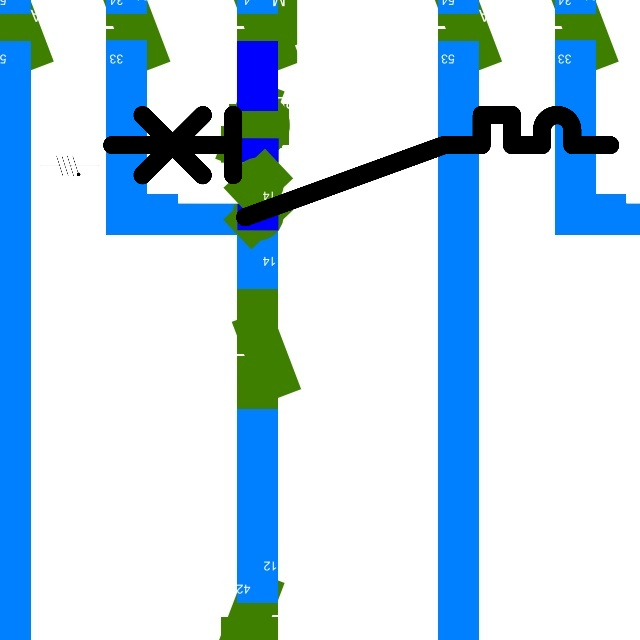interruptor_termomagnetico: (99, 102, 622, 230)
